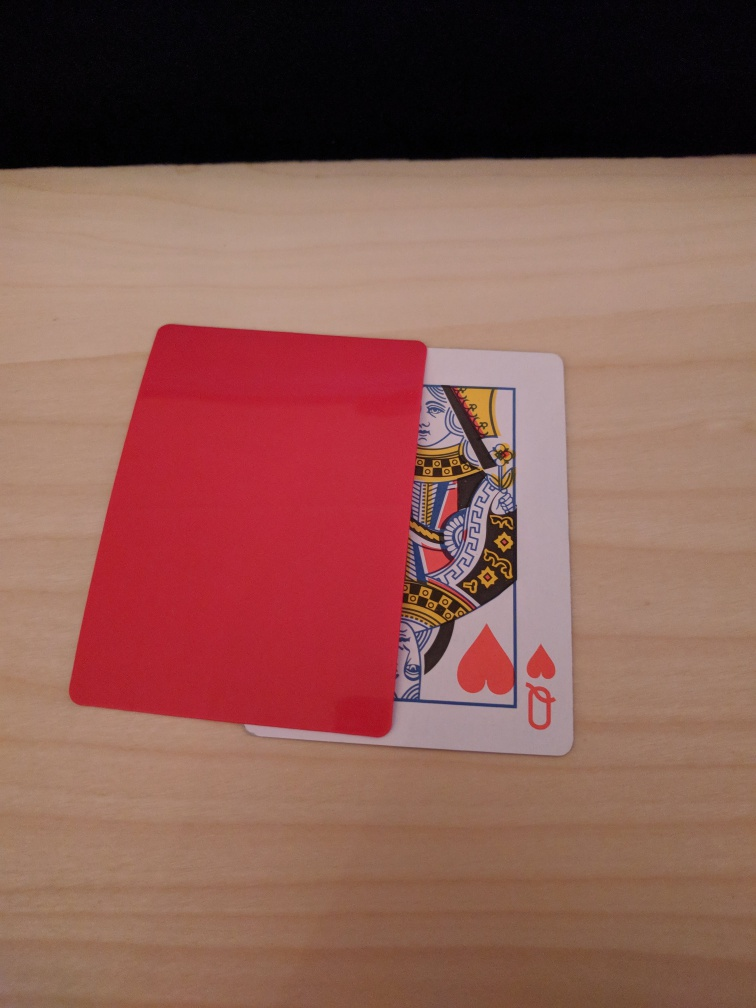queen: (380, 347, 575, 759)
